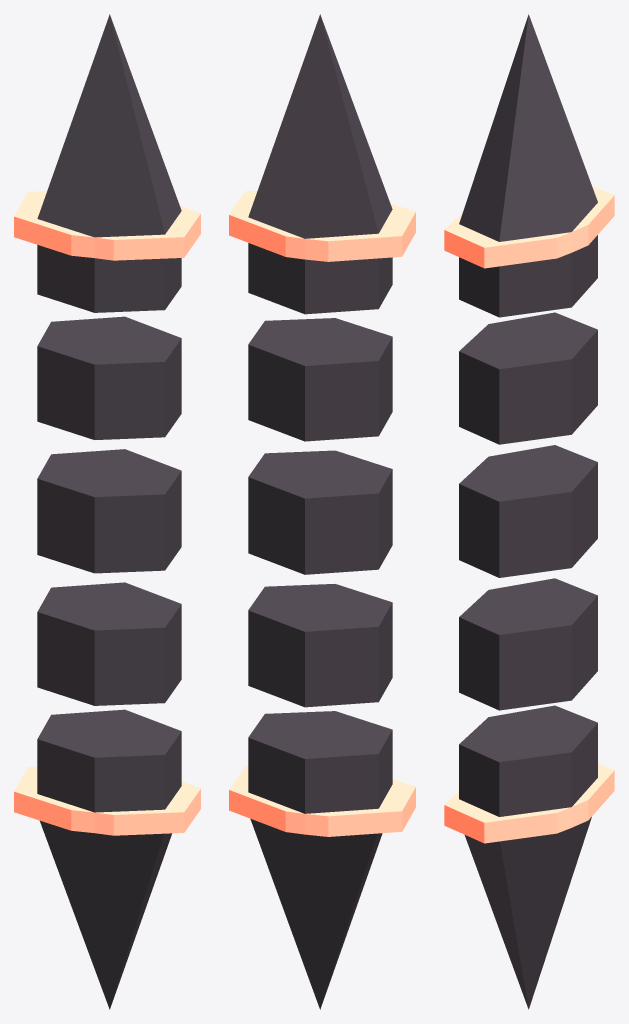
File: enviroment_1.fbx
The picture shows the model from 3 angles, left to right: view 1: azimuth 30°, elevation 25°; view 2: azimuth 210°, elevation 25°; view 3: azimuth 270°, elevation 25°; orthographic projection.
Visible parts, largest first — view 1: Cube.001; view 2: Cube.001; view 3: Cube.001.
Part boxes in pixels (x1,y1,x2,y2): Cube.001: [14, 14, 200, 1009]; Cube.001: [229, 14, 415, 1009]; Cube.001: [444, 14, 614, 1009].
Bounding box in the file's own units: 610 × 4048 × 628.
